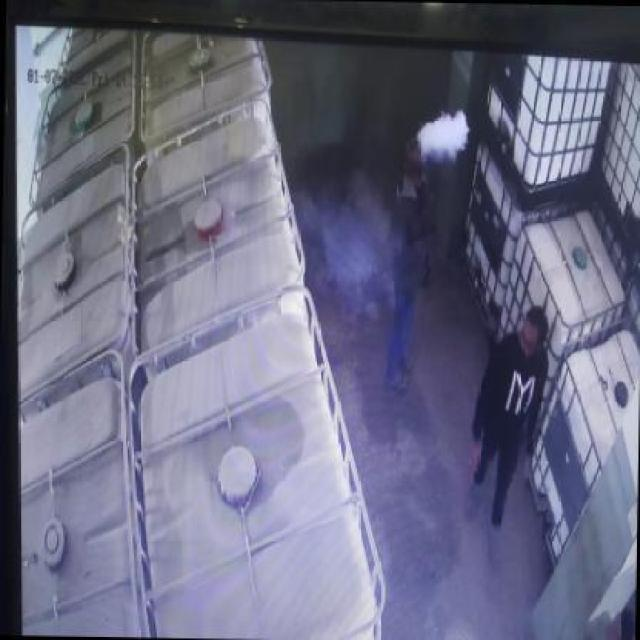fire: (294, 168, 406, 317), (416, 107, 470, 164)
